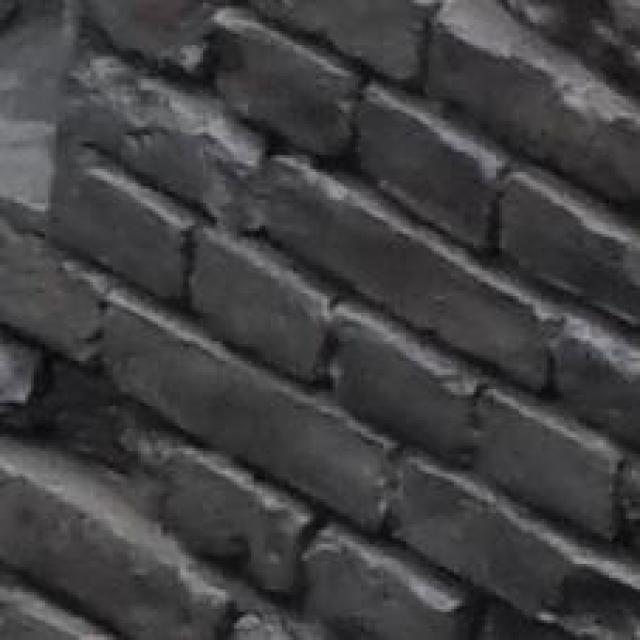Crack: (0, 250, 209, 586)
